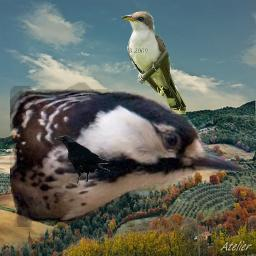Crow: (54, 135, 110, 186)
Cuckoo: (121, 10, 186, 114)
Woodpecker: (10, 79, 248, 227)
